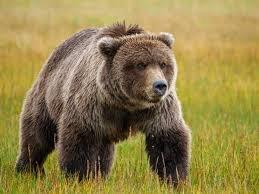bear: (16, 23, 192, 185)
